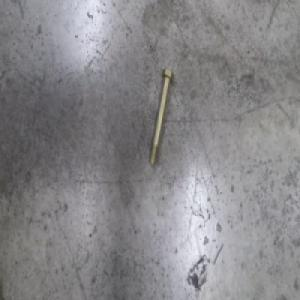Bolt: (147, 66, 174, 168)
